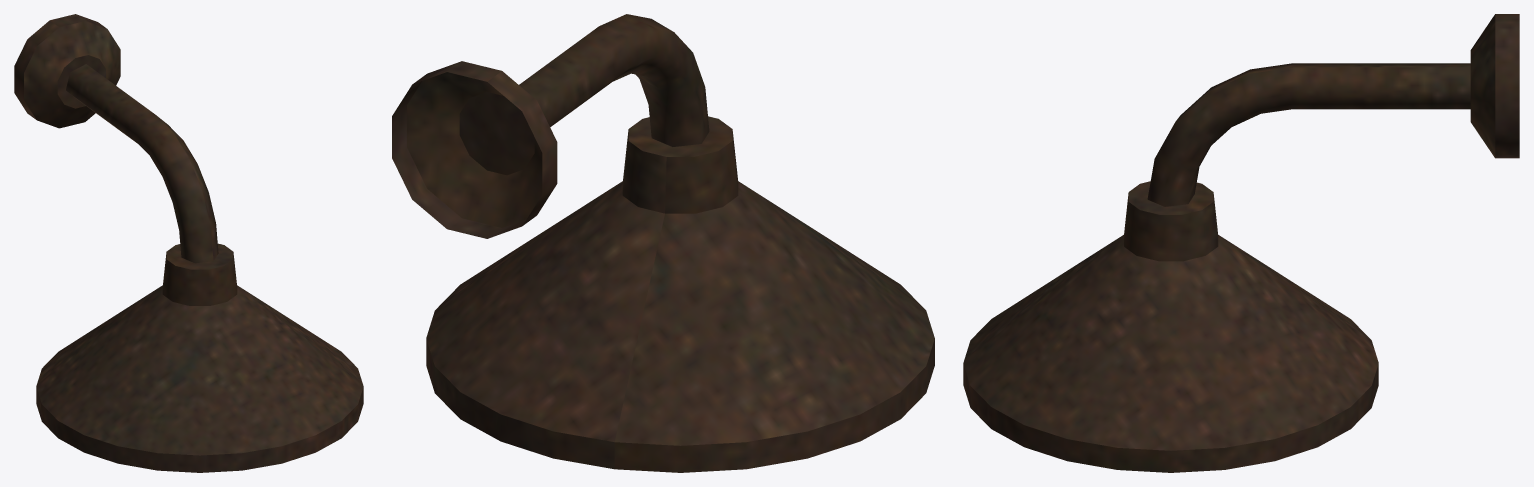
Rendered from lamp_mx_2_on.obj.
The picture shows the model from 3 angles, left to right: view 1: azimuth 30°, elevation 25°; view 2: azimuth 150°, elevation 25°; view 3: azimuth 270°, elevation 25°; orthographic projection. The views are drawn at different scales.
Visible parts, largest first — view 1: lamp_mx_2_on; view 2: lamp_mx_2_on; view 3: lamp_mx_2_on.
Boxes of the visible parts, box(x1,y1,x2,y2) form: lamp_mx_2_on: box(14, 14, 363, 472); lamp_mx_2_on: box(392, 14, 934, 472); lamp_mx_2_on: box(963, 14, 1519, 472).
Bounding box in the file's own units: 0.357 × 0.3682 × 0.478.
